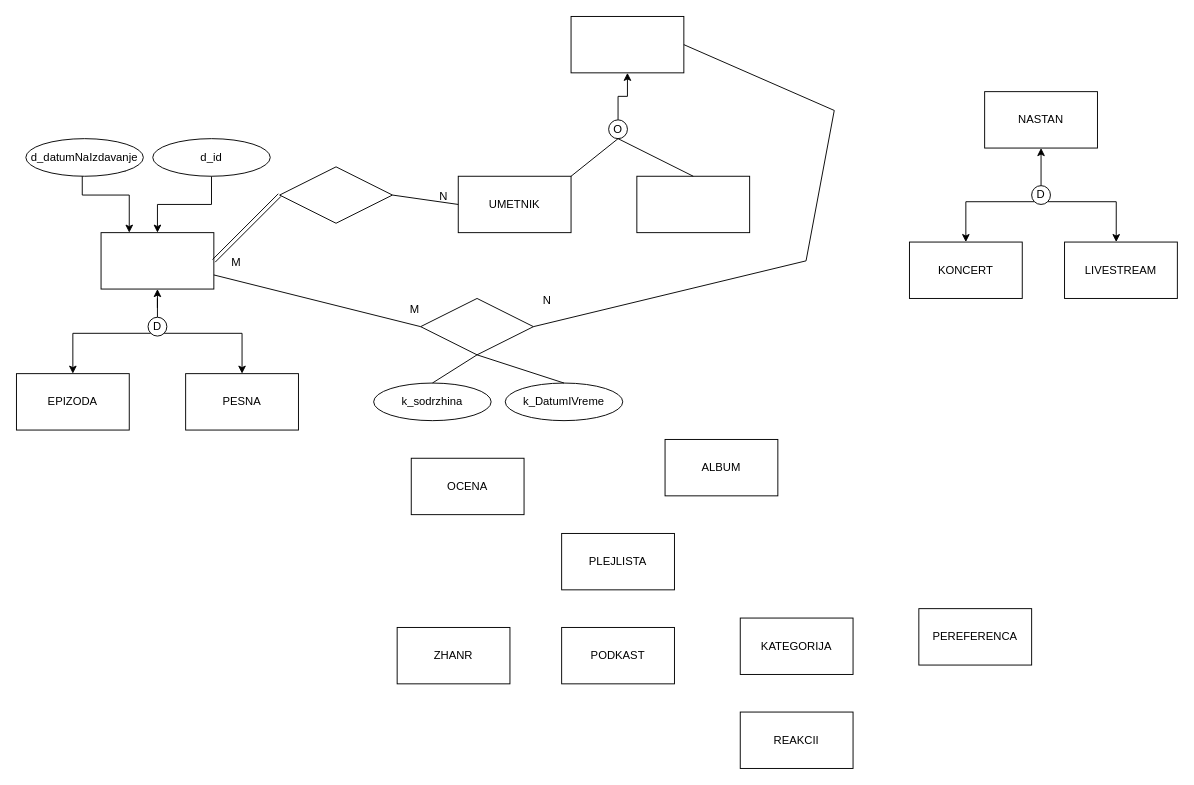
The diagram is 1194 pixels wide and 785 high, and some of its shapes have lost their labels. The centre of each missing label's shape, as x and y in pixels:
"DELO" belongs at (157,260).
"izdava" belongs at (335,194).
"komentira" belongs at (476,326).
"KORISNIK" belongs at (627,44).
"SLUSHATEL" belongs at (693,204).
